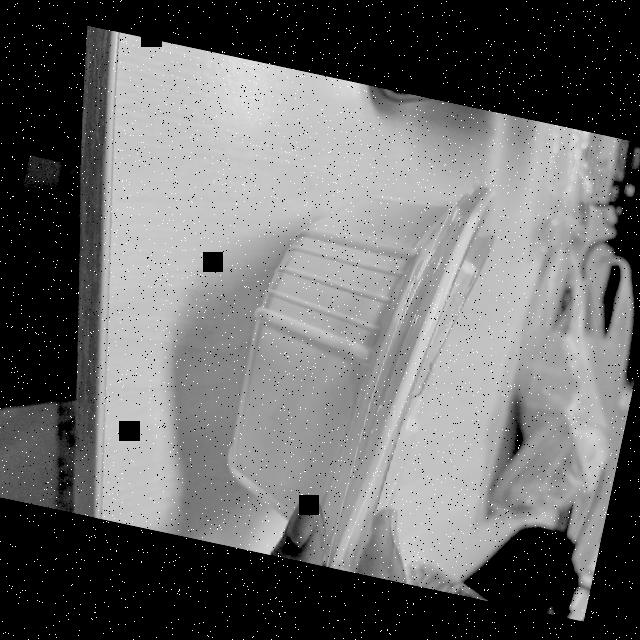plastic_box: (194, 128, 528, 590)
